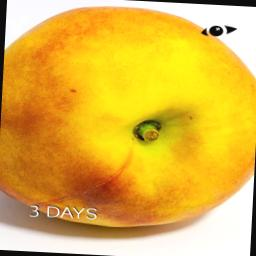Peach Ripe: (0, 1, 256, 237)
